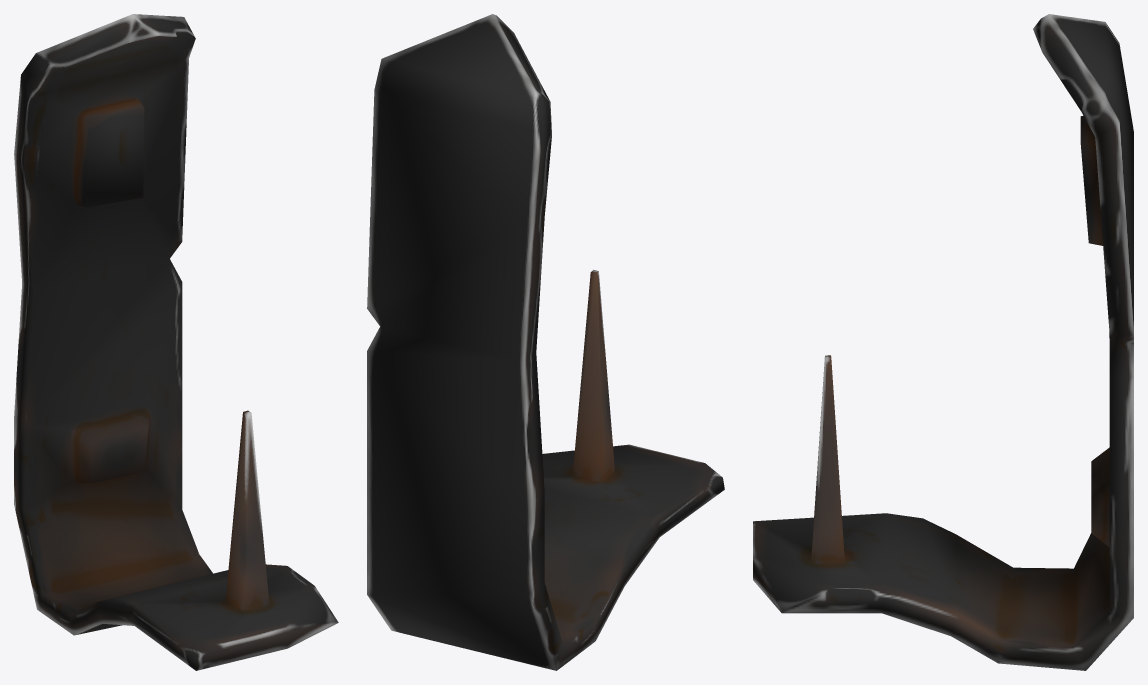
Rendered from Sconce_A.fbx.
3 renders of one model, left to right at view 1: azimuth 30°, elevation 25°; view 2: azimuth 150°, elevation 25°; view 3: azimuth 270°, elevation 25°, orthographic. The views are drawn at different scales.
Parts seen in each view (by area): view 1: U_Sconce_A; view 2: U_Sconce_A; view 3: U_Sconce_A.
Boxes of the visible parts, x1,y1,x2,y2 form: U_Sconce_A: (14,14,338,670); U_Sconce_A: (367,14,724,670); U_Sconce_A: (753,14,1133,670).
Size of the model in its own units: 30.18 by 108 by 60.32.
1 material, 1 textured.
